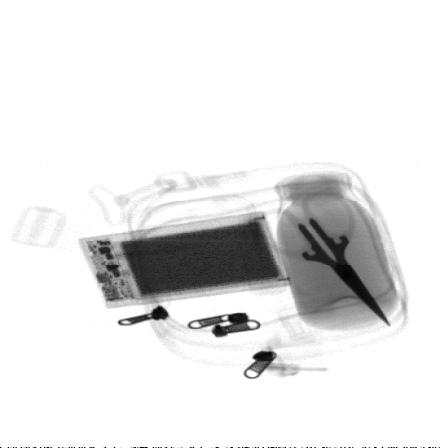Powerbank: (75, 213, 291, 307)
Scissors: (249, 190, 401, 334)
